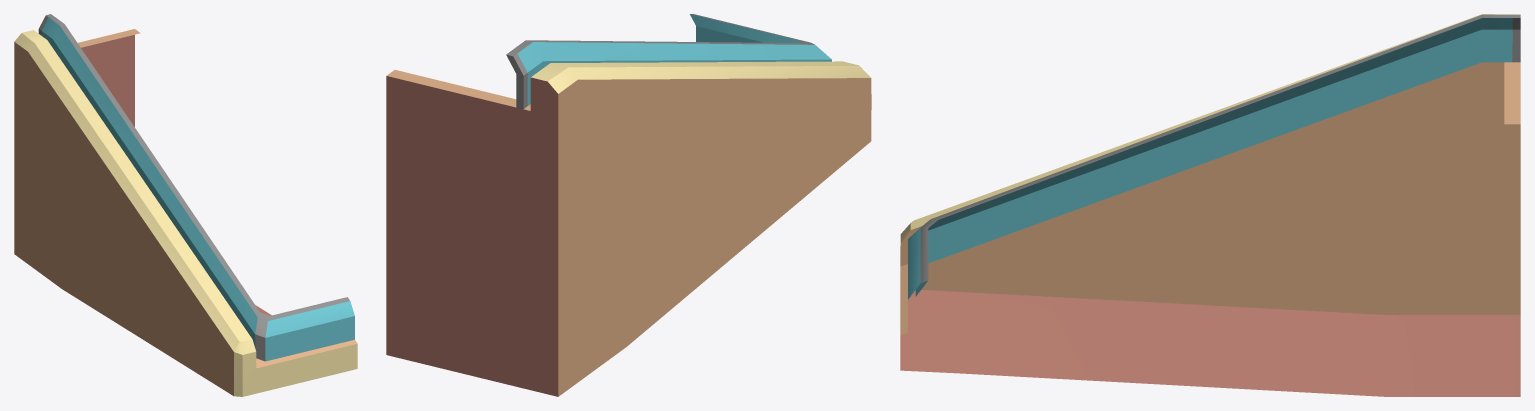
File: Stalls left side.fbx
3 renders of one model, left to right at view 1: azimuth 30°, elevation 25°; view 2: azimuth 150°, elevation 25°; view 3: azimuth 270°, elevation 25°, orthographic. The views are drawn at different scales.
Visible parts, largest first — view 1: Stalls left side; view 2: Stalls left side; view 3: Stalls left side.
Part boxes in pixels (box(x1,y1,x2,y2)): Stalls left side: box(14, 14, 357, 396); Stalls left side: box(386, 14, 871, 396); Stalls left side: box(900, 14, 1520, 396).
Size of the model in its own units: 5 by 9.16 by 16.
